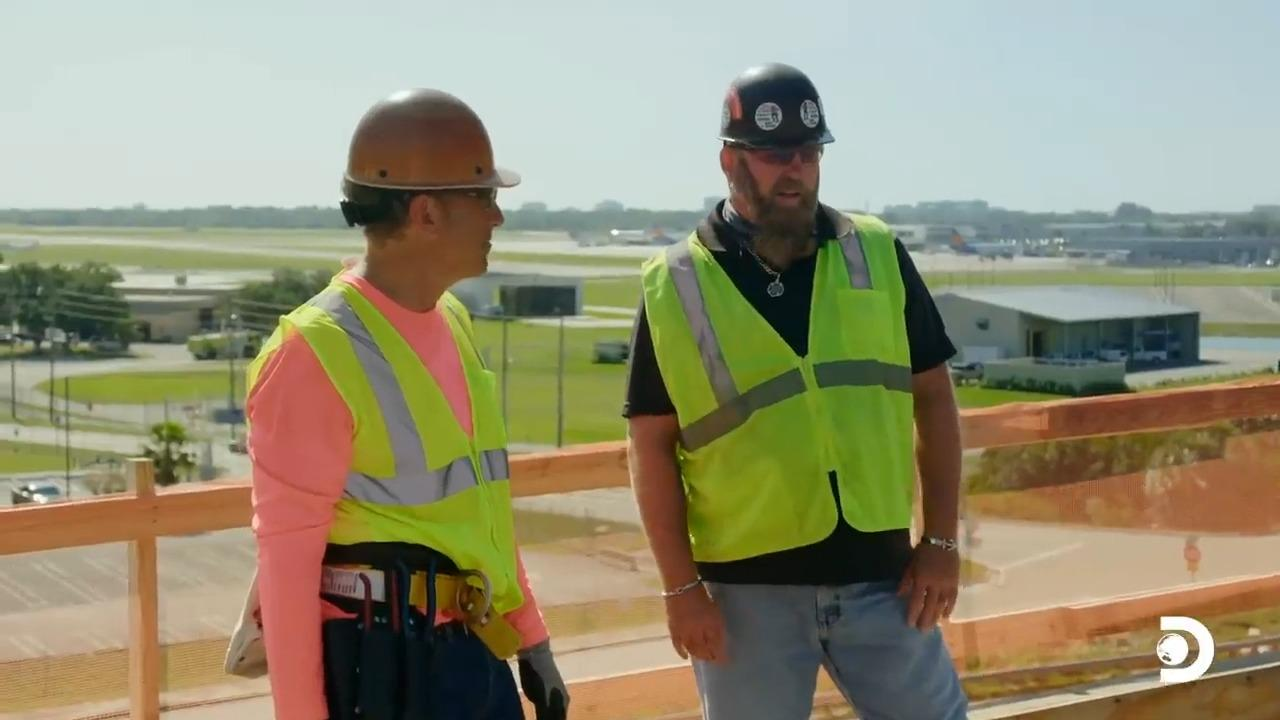Gloves: (524, 647, 569, 714)
Helmet: (347, 103, 502, 207), (729, 68, 833, 156)
Person: (231, 87, 558, 720)
Safety Vest: (662, 243, 916, 536), (278, 316, 518, 585)
bare-arms: (878, 538, 977, 625), (658, 587, 726, 657)
